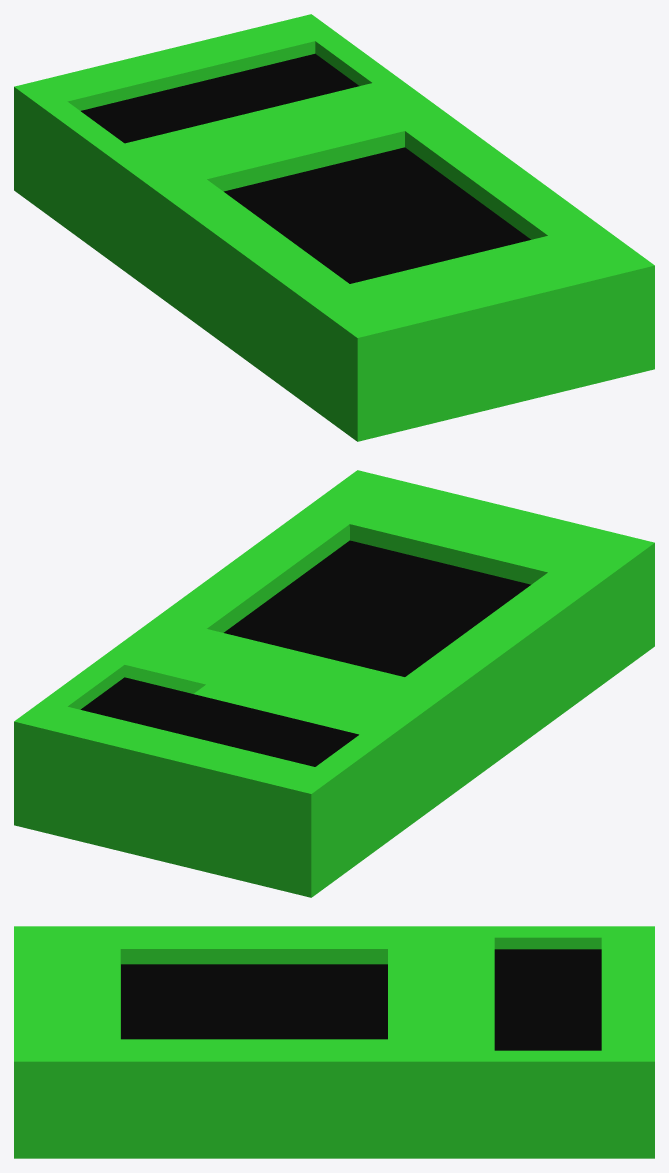
Rendered from tracker.FBX.
The picture shows the model from 3 angles, top to bottom: view 1: azimuth 30°, elevation 25°; view 2: azimuth 150°, elevation 25°; view 3: azimuth 270°, elevation 25°; orthographic projection. The views are drawn at different scales.
Visible parts, largest first — view 1: Box001, 对象002, 对象001; view 2: Box001, 对象002, 对象001; view 3: Box001, 对象002, 对象001.
Part boxes in pixels (x1=…): Box001: x1=14, y1=14, x2=654, y2=441; 对象002: x1=224, y1=147, x2=530, y2=283; 对象001: x1=81, y1=53, x2=359, y2=143; Box001: x1=14, y1=470, x2=654, y2=897; 对象002: x1=224, y1=540, x2=530, y2=676; 对象001: x1=80, y1=677, x2=358, y2=766; Box001: x1=14, y1=926, x2=654, y2=1158; 对象002: x1=121, y1=964, x2=387, y2=1039; 对象001: x1=494, y1=949, x2=601, y2=1050.
Size of the model in its own units: 12 by 4 by 24.
